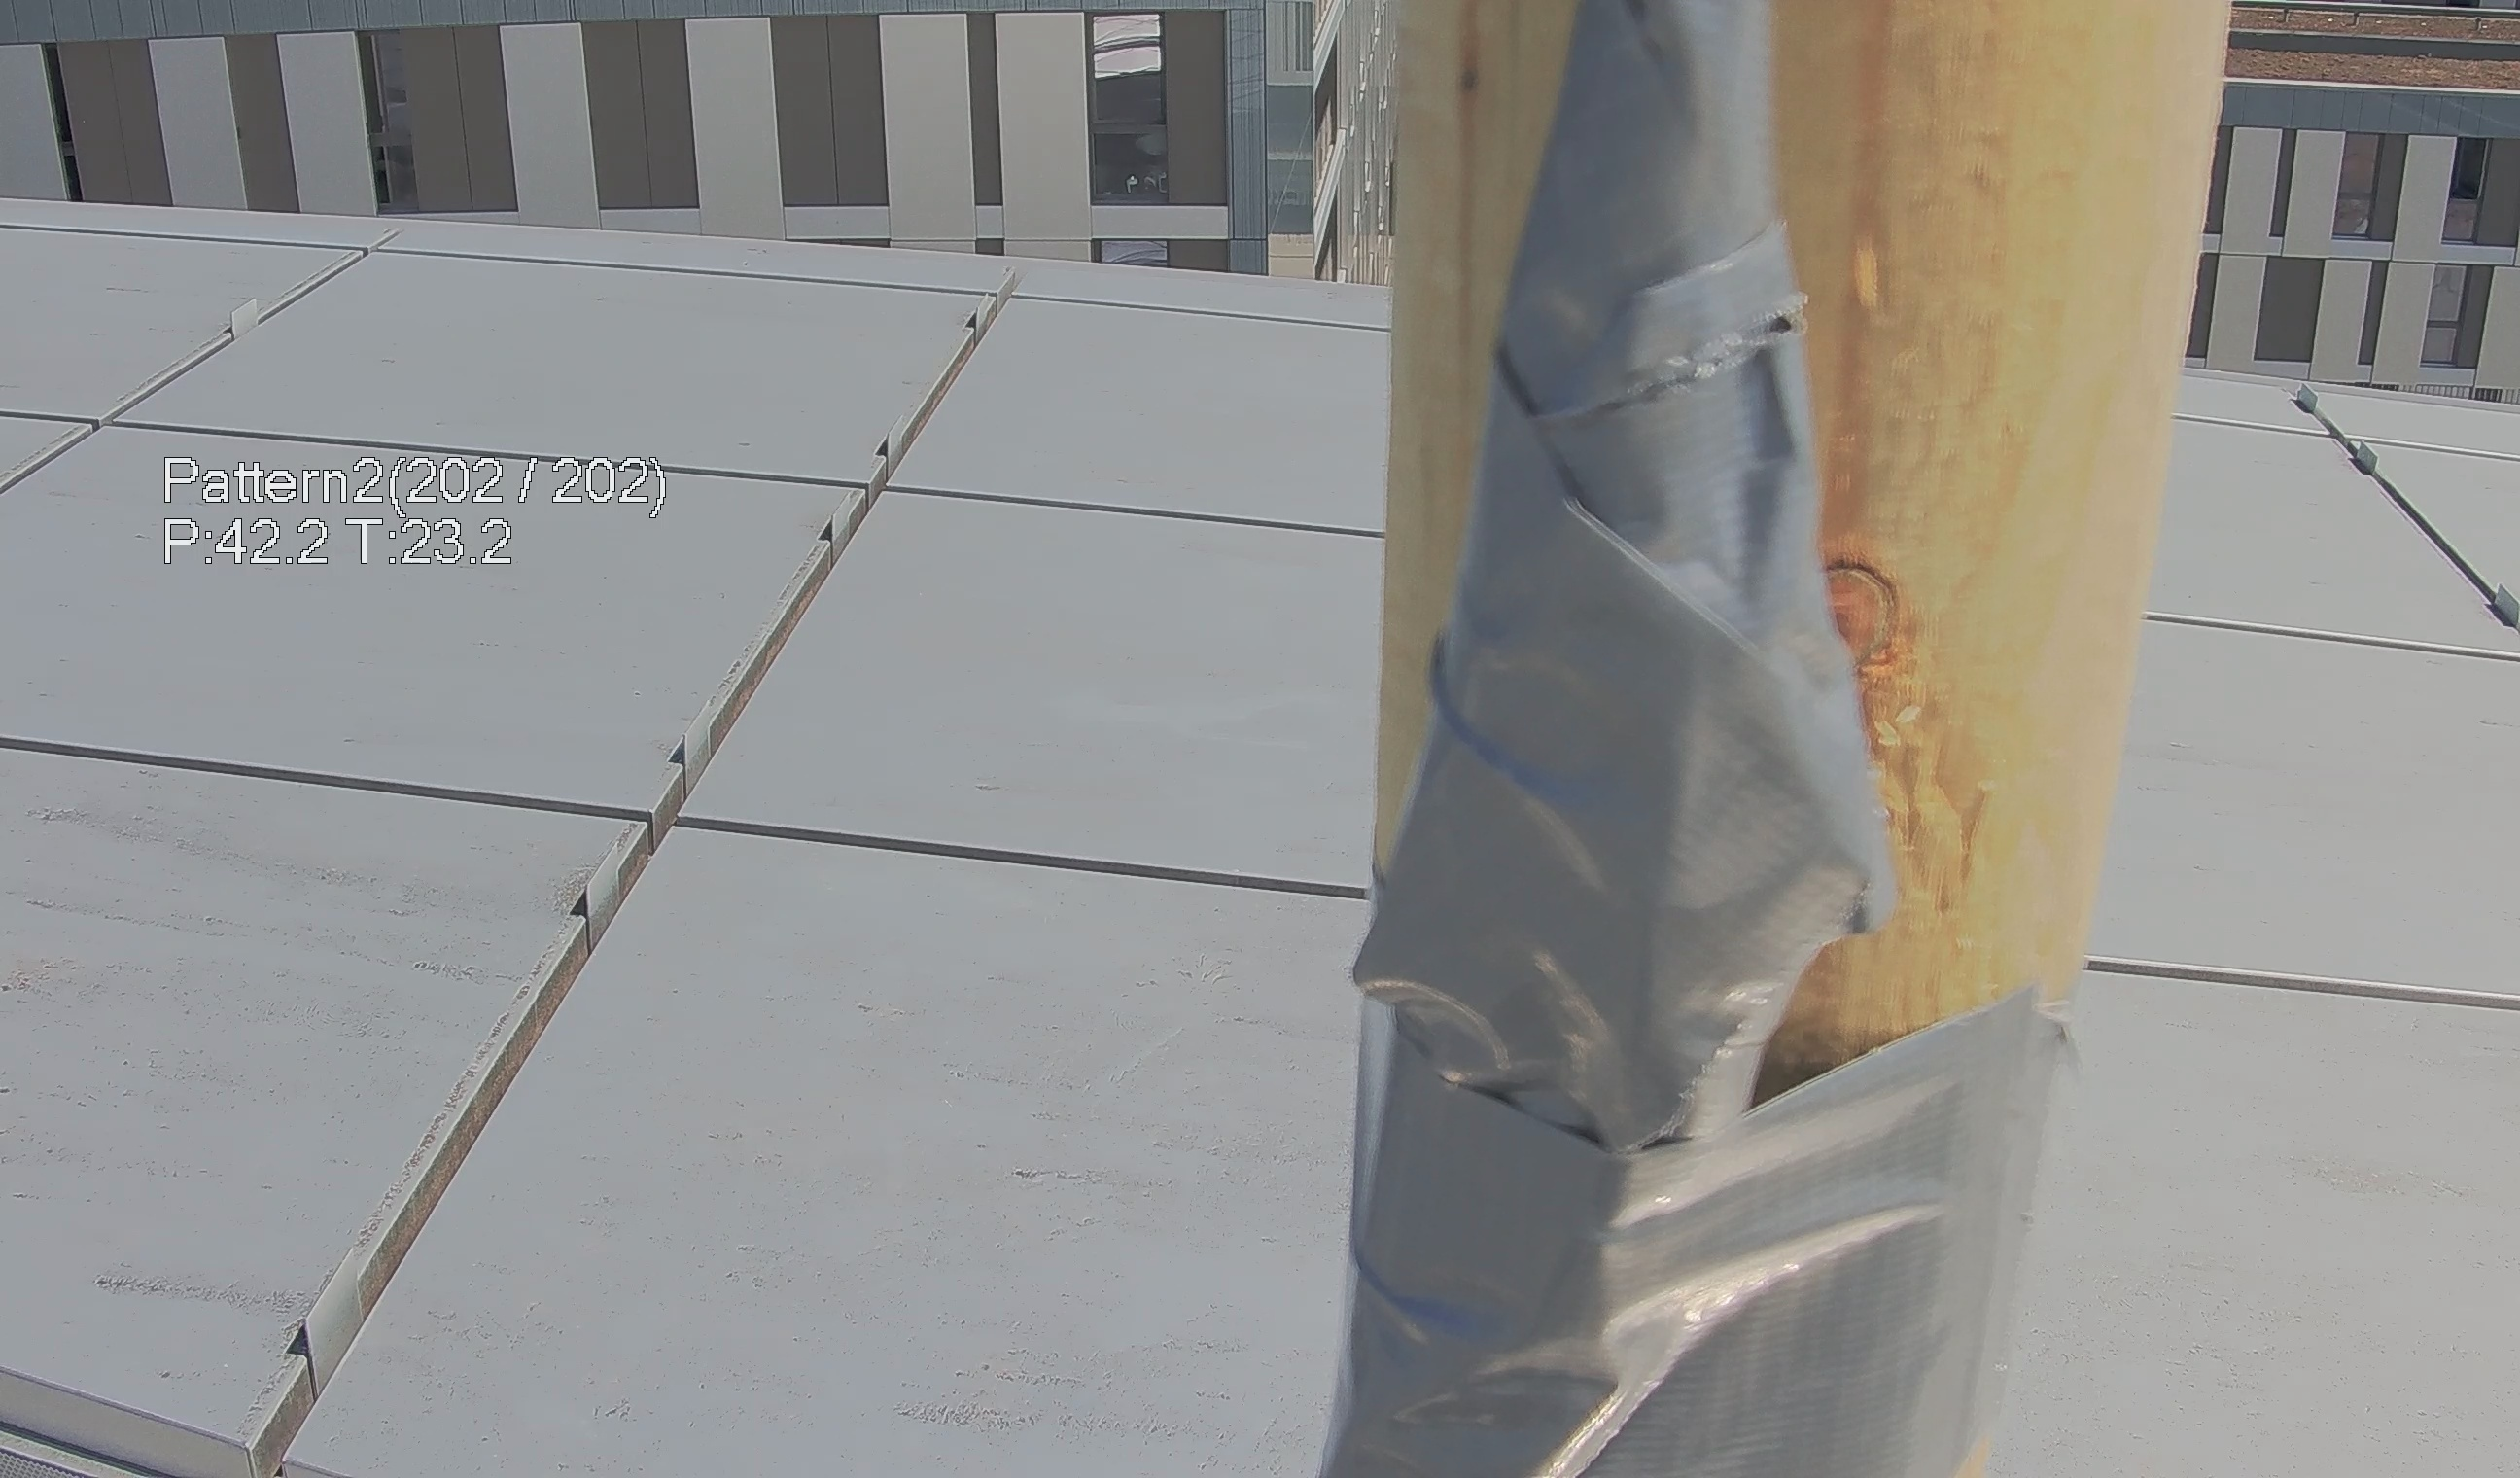Other: (1363, 0, 1926, 1246)
